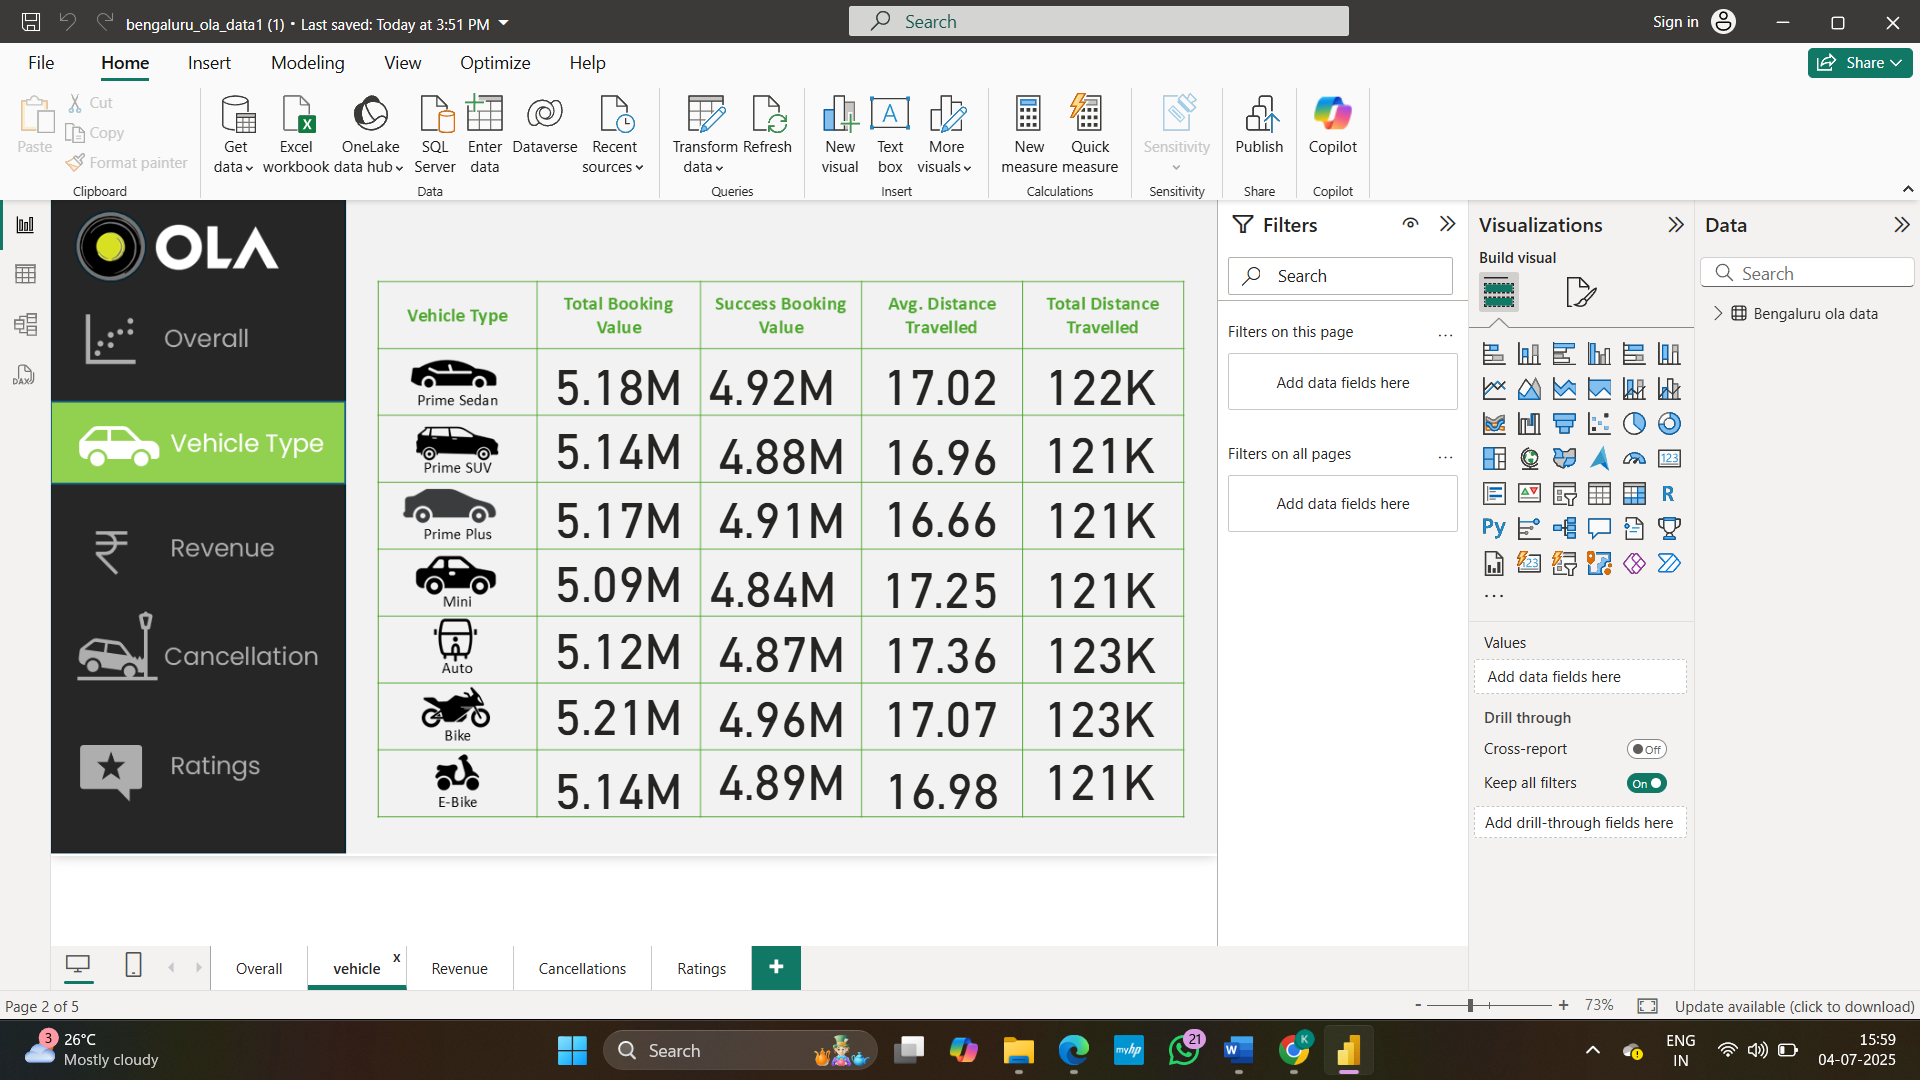

The page's visual inventory and layout, read from the dashboard file:
{"tool":"powerbi","page":{"name":"vehicle","canvas":[1280,720],"ordinal":1},"visuals":[{"type":"actionButton","box":[0,583.2,323.8,81],"z":0},{"type":"actionButton","box":[0,447.3,323.8,81],"z":1000},{"type":"actionButton","box":[0,344.4,323.8,81],"z":2000},{"type":"actionButton","box":[0,109.8,323.8,81],"z":3000},{"type":"card","fields":{"Values":["Bengaluru ola data.TotalBookingValue"]},"box":[530,165.2,184.6,70],"z":4000},{"type":"card","fields":{"Values":["Bengaluru ola data.TotalBookingValue"]},"box":[530,235.2,184.6,70],"z":5000},{"type":"card","fields":{"Values":["Bengaluru ola data.TotalBookingValue"]},"box":[530,309.7,184.6,70],"z":6000},{"type":"card","fields":{"Values":["Bengaluru ola data.TotalBookingValue"]},"box":[530,379.6,184.6,70],"z":7000},{"type":"card","fields":{"Values":["Bengaluru ola data.TotalBookingValue"]},"box":[530,454.1,184.6,70],"z":8000},{"type":"card","fields":{"Values":["Bengaluru ola data.TotalBookingValue"]},"box":[530,527,184.6,70],"z":9000},{"type":"card","fields":{"Values":["Bengaluru ola data.TotalBookingValue"]},"box":[530,607.4,184.6,70],"z":10000},{"type":"card","fields":{"Values":["Bengaluru ola data.SuccessBookingValue"]},"box":[704.2,165.2,174.2,70],"z":11000},{"type":"card","fields":{"Values":["Bengaluru ola data.SuccessBookingValue"]},"box":[714.6,239.7,174.2,70],"z":12000},{"type":"card","fields":{"Values":["Bengaluru ola data.SuccessBookingValue"]},"box":[714.6,309.7,174.2,70],"z":13000},{"type":"card","fields":{"Values":["Bengaluru ola data.SuccessBookingValue"]},"box":[705.7,385.6,174.2,70],"z":14000},{"type":"card","fields":{"Values":["Bengaluru ola data.SuccessBookingValue"]},"box":[714.6,457,174.2,70],"z":15000},{"type":"card","fields":{"Values":["Bengaluru ola data.SuccessBookingValue"]},"box":[714.6,528.5,174.2,70],"z":16000},{"type":"card","fields":{"Values":["Bengaluru ola data.SuccessBookingValue"]},"box":[714.6,598.5,174.2,70],"z":17000},{"type":"card","fields":{"Values":["Avg(Bengaluru ola data.Ride Distance)"]},"box":[888.8,165.2,174.2,70],"z":18000},{"type":"card","fields":{"Values":["Avg(Bengaluru ola data.Ride Distance)"]},"box":[888.8,241.2,174.2,70],"z":19000},{"type":"card","fields":{"Values":["Avg(Bengaluru ola data.Ride Distance)"]},"box":[888.8,308.2,174.2,70],"z":20000},{"type":"card","fields":{"Values":["Avg(Bengaluru ola data.Ride Distance)"]},"box":[888.8,387.1,174.2,70],"z":21000},{"type":"card","fields":{"Values":["Avg(Bengaluru ola data.Ride Distance)"]},"box":[888.8,458.5,174.2,70],"z":22000},{"type":"card","fields":{"Values":["Avg(Bengaluru ola data.Ride Distance)"]},"box":[888.8,528.5,174.2,70],"z":23000},{"type":"card","fields":{"Values":["Avg(Bengaluru ola data.Ride Distance)"]},"box":[890.3,607.4,174.2,70],"z":24000},{"type":"card","fields":{"Values":["Sum(Bengaluru ola data.Ride Distance)"]},"box":[1064.4,165.2,174.2,70],"z":25000},{"type":"card","fields":{"Values":["Sum(Bengaluru ola data.Ride Distance)"]},"box":[1062.9,238.2,174.2,70],"z":26000},{"type":"card","fields":{"Values":["Sum(Bengaluru ola data.Ride Distance)"]},"box":[1064.4,309.7,174.2,70],"z":27000},{"type":"card","fields":{"Values":["Sum(Bengaluru ola data.Ride Distance)"]},"box":[1064.4,387.1,174.2,70],"z":28000},{"type":"card","fields":{"Values":["Sum(Bengaluru ola data.Ride Distance)"]},"box":[1064.4,458.5,174.2,70],"z":29000},{"type":"card","fields":{"Values":["Sum(Bengaluru ola data.Ride Distance)"]},"box":[1062.9,528.5,174.2,70],"z":30000},{"type":"card","fields":{"Values":["Sum(Bengaluru ola data.Ride Distance)"]},"box":[1062.9,598.5,174.2,70],"z":31000}]}

Visuals, with their boxes on the page's 1280x720 design canvas (x1, y1, x2, y2). These are canvas units, not pixel positions in the 1920x1080 screenshot, which may show the page scaled, cropped or inside an application window:
actionButton: box(0, 583, 324, 664)
actionButton: box(0, 447, 324, 528)
actionButton: box(0, 344, 324, 425)
actionButton: box(0, 110, 324, 191)
card - Bengaluru ola data.TotalBookingValue: box(530, 165, 715, 235)
card - Bengaluru ola data.TotalBookingValue: box(530, 235, 715, 305)
card - Bengaluru ola data.TotalBookingValue: box(530, 310, 715, 380)
card - Bengaluru ola data.TotalBookingValue: box(530, 380, 715, 450)
card - Bengaluru ola data.TotalBookingValue: box(530, 454, 715, 524)
card - Bengaluru ola data.TotalBookingValue: box(530, 527, 715, 597)
card - Bengaluru ola data.TotalBookingValue: box(530, 607, 715, 677)
card - Bengaluru ola data.SuccessBookingValue: box(704, 165, 878, 235)
card - Bengaluru ola data.SuccessBookingValue: box(715, 240, 889, 310)
card - Bengaluru ola data.SuccessBookingValue: box(715, 310, 889, 380)
card - Bengaluru ola data.SuccessBookingValue: box(706, 386, 880, 456)
card - Bengaluru ola data.SuccessBookingValue: box(715, 457, 889, 527)
card - Bengaluru ola data.SuccessBookingValue: box(715, 528, 889, 598)
card - Bengaluru ola data.SuccessBookingValue: box(715, 598, 889, 668)
card - Avg(Bengaluru ola data.Ride Distance): box(889, 165, 1063, 235)
card - Avg(Bengaluru ola data.Ride Distance): box(889, 241, 1063, 311)
card - Avg(Bengaluru ola data.Ride Distance): box(889, 308, 1063, 378)
card - Avg(Bengaluru ola data.Ride Distance): box(889, 387, 1063, 457)
card - Avg(Bengaluru ola data.Ride Distance): box(889, 458, 1063, 528)
card - Avg(Bengaluru ola data.Ride Distance): box(889, 528, 1063, 598)
card - Avg(Bengaluru ola data.Ride Distance): box(890, 607, 1064, 677)
card - Sum(Bengaluru ola data.Ride Distance): box(1064, 165, 1239, 235)
card - Sum(Bengaluru ola data.Ride Distance): box(1063, 238, 1237, 308)
card - Sum(Bengaluru ola data.Ride Distance): box(1064, 310, 1239, 380)
card - Sum(Bengaluru ola data.Ride Distance): box(1064, 387, 1239, 457)
card - Sum(Bengaluru ola data.Ride Distance): box(1064, 458, 1239, 528)
card - Sum(Bengaluru ola data.Ride Distance): box(1063, 528, 1237, 598)
card - Sum(Bengaluru ola data.Ride Distance): box(1063, 598, 1237, 668)
